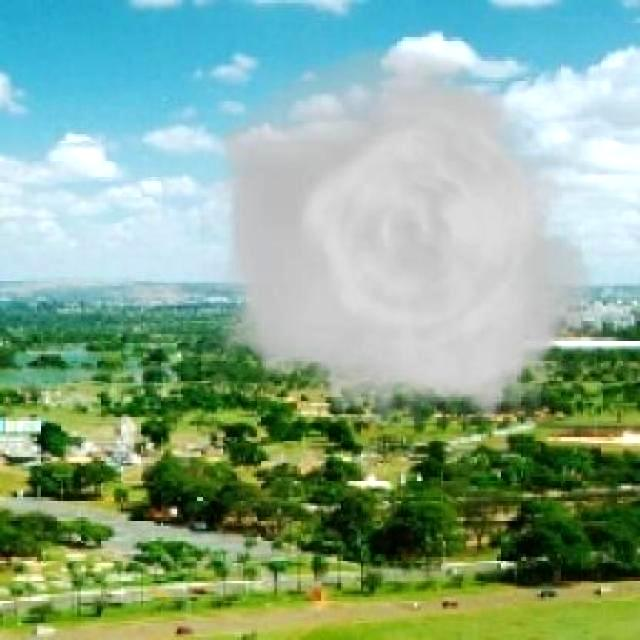no_helmet: (212, 73, 598, 410)
